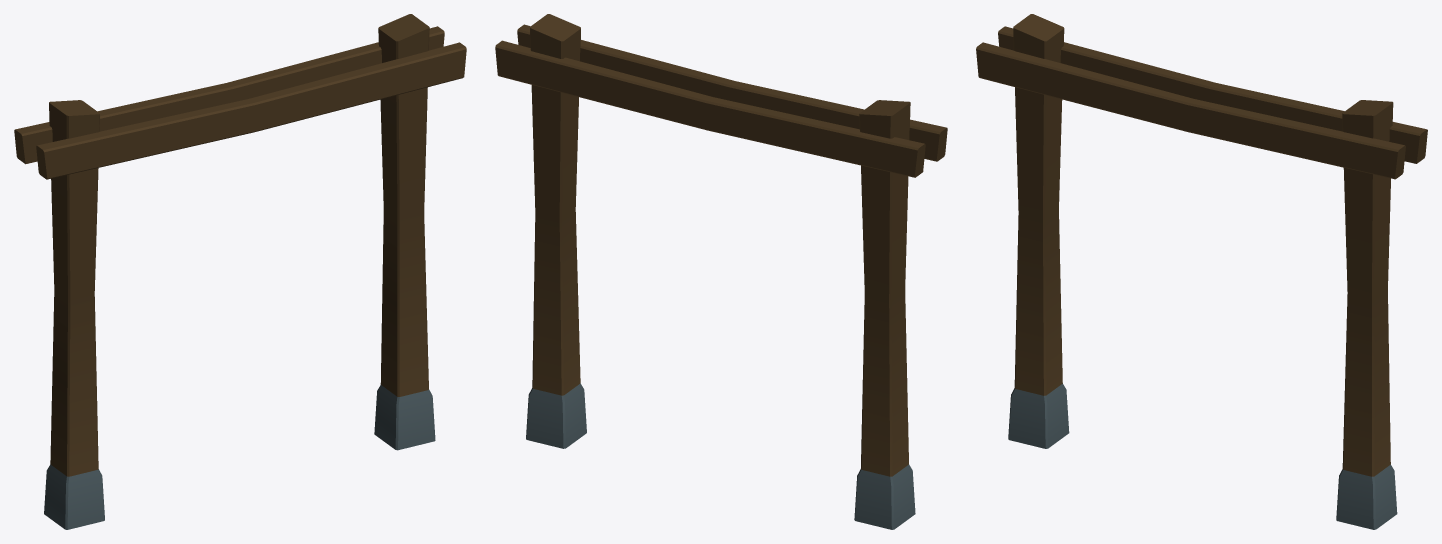
The model's file is Pillars.FBX.
The picture shows the model from 3 angles, left to right: view 1: azimuth 30°, elevation 25°; view 2: azimuth 150°, elevation 25°; view 3: azimuth 330°, elevation 25°; orthographic projection.
Visible parts, largest first — view 1: Box001; view 2: Box001; view 3: Box001.
Boxes of the visible parts, bbox=[...] form: Box001: bbox=[14, 14, 466, 529]; Box001: bbox=[495, 14, 947, 529]; Box001: bbox=[976, 14, 1427, 529].
Bounding box in the file's own units: 139 × 17.41 × 129.
